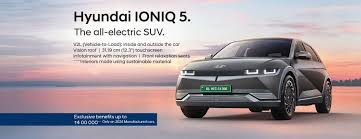car: (176, 37, 335, 125)
